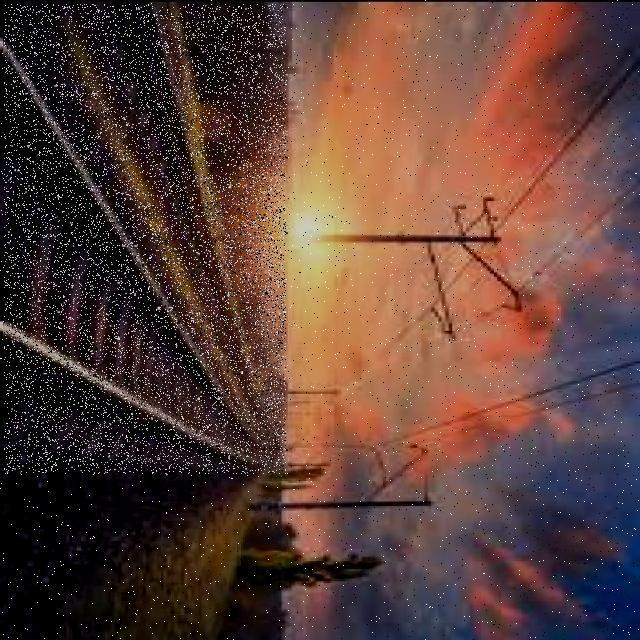rail: (5, 4, 286, 474)
